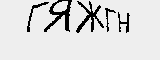Г: (22, 1, 46, 32), (103, 7, 116, 32)
Ж: (74, 1, 105, 34)
Н: (117, 12, 132, 35)
Я: (46, 1, 71, 36)
